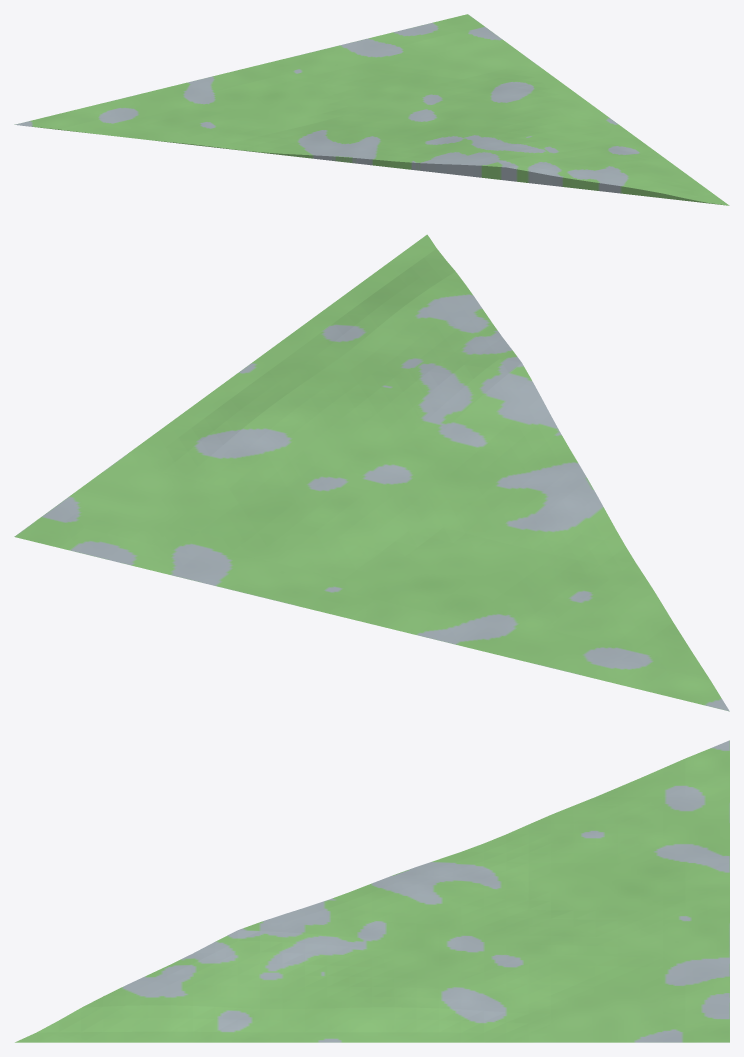
The model's file is Grass_RockyGround_01_SE.obj.
The picture shows the model from 3 angles, top to bottom: view 1: azimuth 30°, elevation 25°; view 2: azimuth 150°, elevation 25°; view 3: azimuth 270°, elevation 25°; orthographic projection. The views are drawn at different scales.
Bounding box in the file's own units: 10 × 0.2768 × 10.
1 material, 1 textured.
